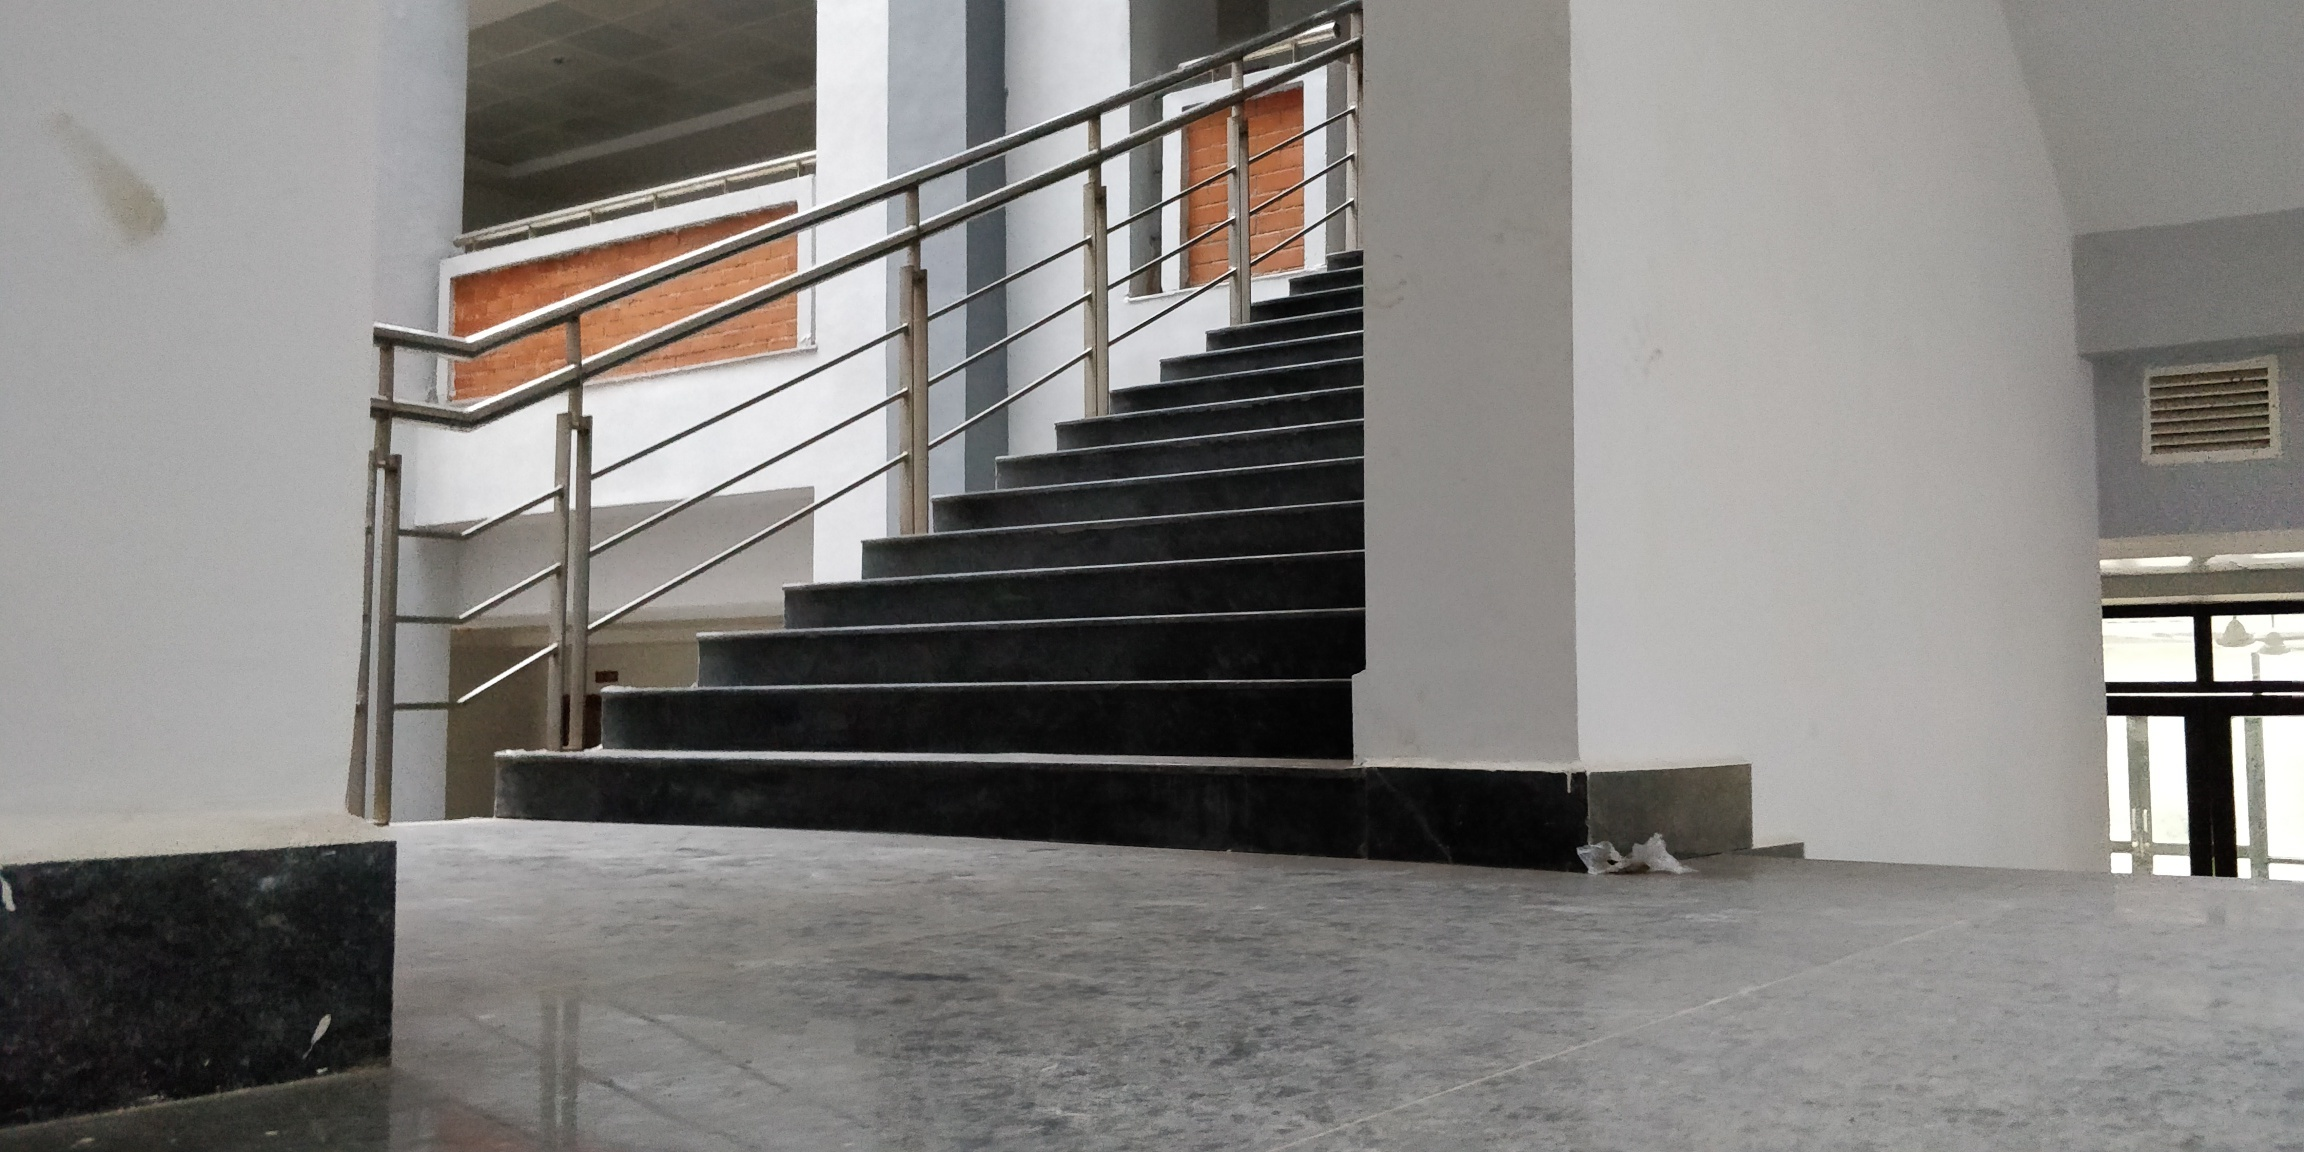stairs_up: (480, 168, 1361, 849)
